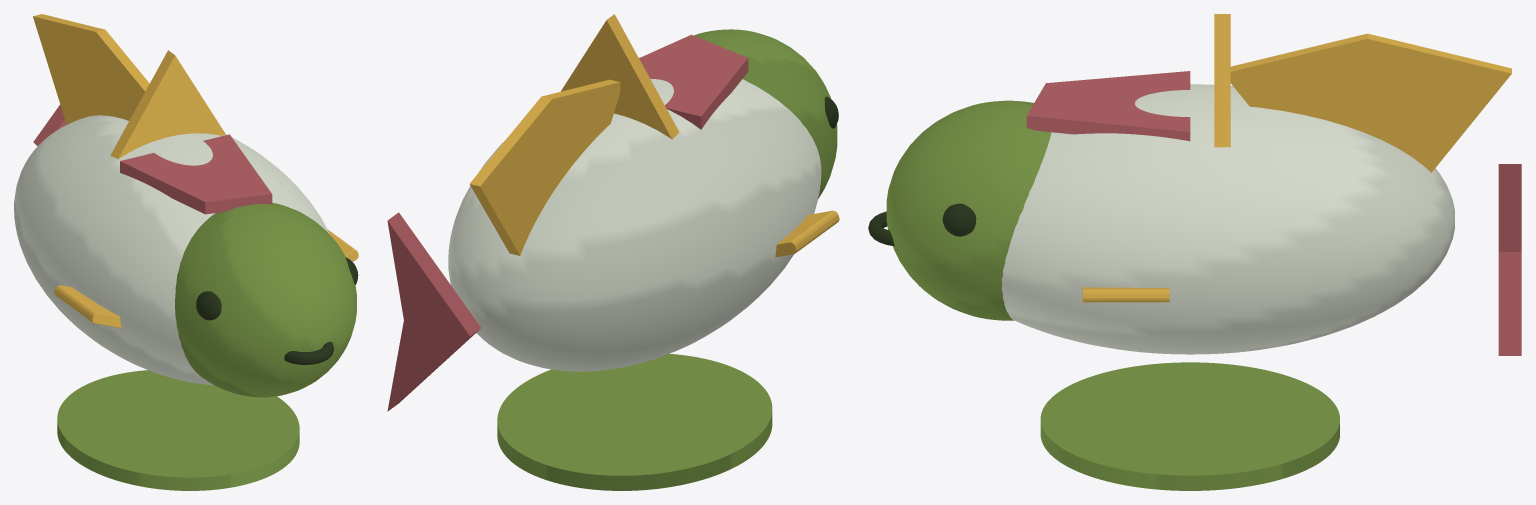
Rendered from 0827_两栖动物图鉴_版纳鱼螈.glb.
The picture shows the model from 3 angles, left to right: view 1: azimuth 30°, elevation 25°; view 2: azimuth 150°, elevation 25°; view 3: azimuth 270°, elevation 25°; orthographic projection. The views are drawn at different scales.
Parts seen in each view (by area): view 1: card_0827; view 2: card_0827; view 3: card_0827.
Boxes of the visible parts, bbox=[...] form: card_0827: bbox=[14, 14, 358, 490]; card_0827: bbox=[387, 14, 839, 490]; card_0827: bbox=[868, 14, 1521, 490].
Size of the model in its own units: 0.7501 by 1 by 1.4.
